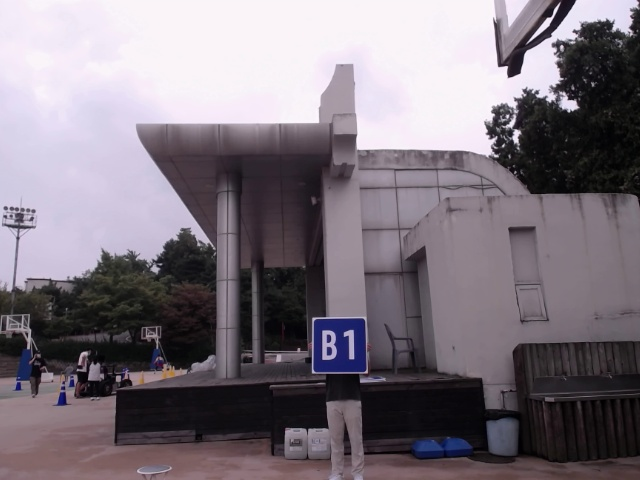delivery_b1: (312, 318, 367, 373)
